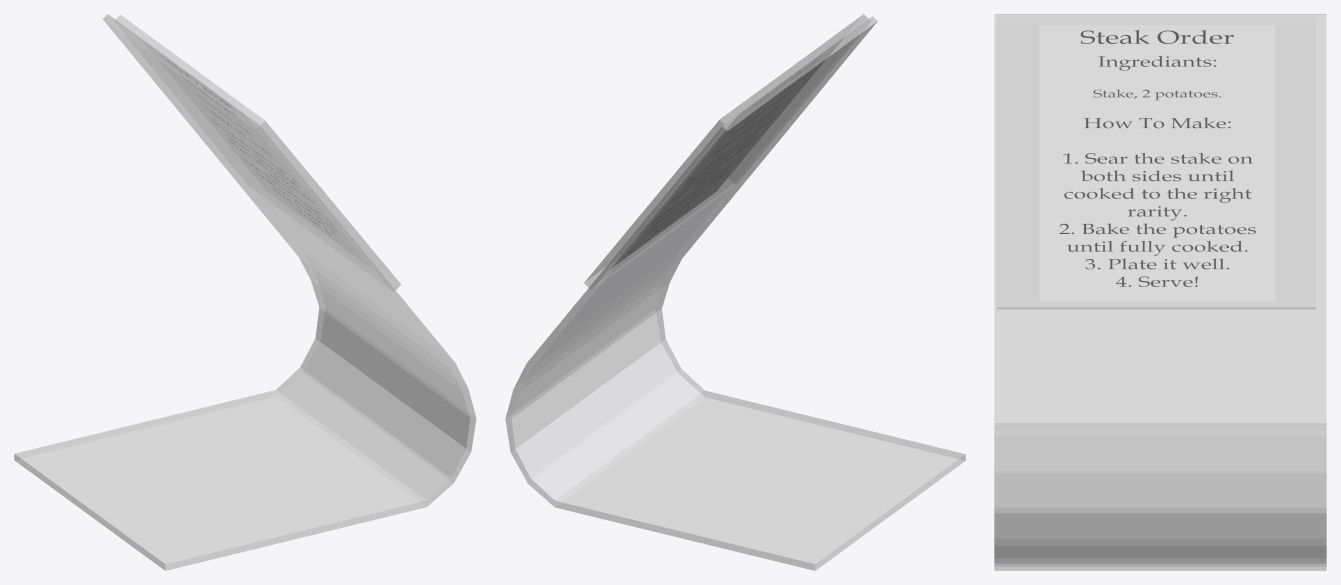
The model's file is IngrediantHolder.fbx.
The picture shows the model from 3 angles, left to right: view 1: azimuth 30°, elevation 25°; view 2: azimuth 150°, elevation 25°; view 3: azimuth 270°, elevation 25°; orthographic projection. The views are drawn at different scales.
Parts seen in each view (by area): view 1: Cube; view 2: Cube; view 3: Cube.
Boxes of the visible parts, left/top/right/bottom form: Cube: left=14, top=14, right=476, bottom=570; Cube: left=505, top=14, right=965, bottom=570; Cube: left=994, top=14, right=1326, bottom=570.
Bounding box in the file's own units: 474 × 618 × 398.
